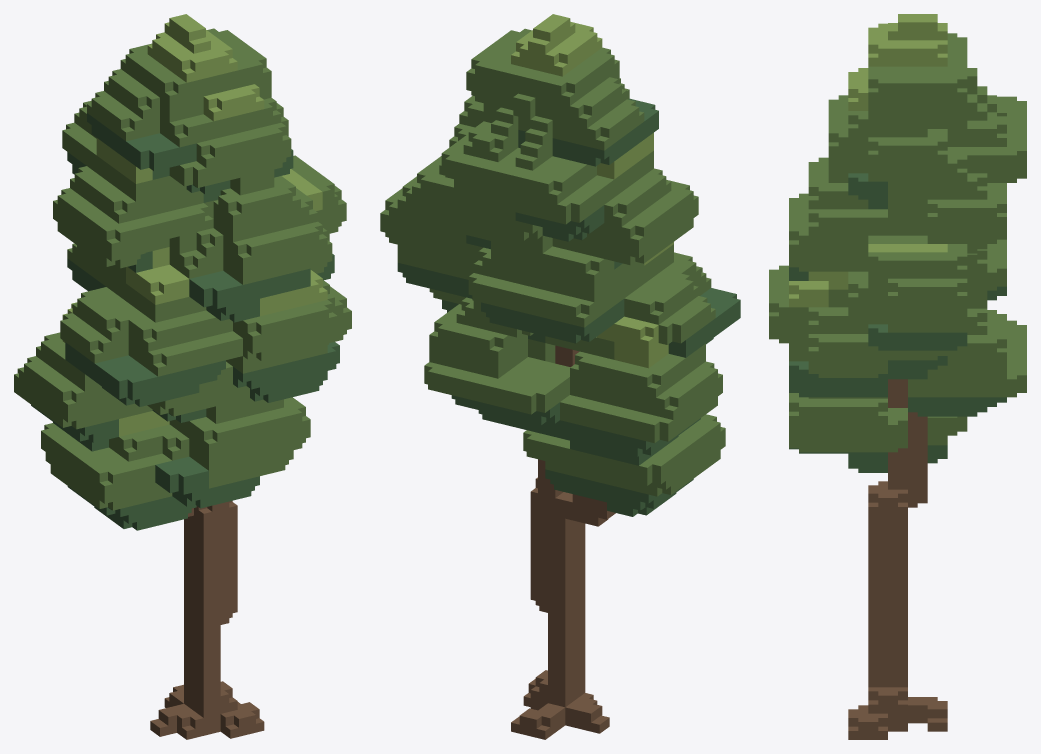
The model's file is hearthvale_tree_riverside_young.obj.
The picture shows the model from 3 angles, left to right: view 1: azimuth 30°, elevation 25°; view 2: azimuth 150°, elevation 25°; view 3: azimuth 270°, elevation 25°; orthographic projection.
Visible parts, largest first — view 1: palette_2, palette_3, palette_1, palette_4; view 2: palette_2, palette_3, palette_1, palette_4; view 3: palette_2, palette_1, palette_3, palette_4.
Part boxes in pixels (bbox=[...]): palette_2: bbox=[14, 28, 351, 510]; palette_3: bbox=[31, 113, 339, 530]; palette_1: bbox=[150, 500, 264, 739]; palette_4: bbox=[62, 14, 327, 436]; palette_2: bbox=[380, 28, 725, 496]; palette_3: bbox=[397, 98, 740, 516]; palette_1: bbox=[511, 345, 615, 739]; palette_4: bbox=[511, 14, 673, 368]; palette_2: bbox=[769, 33, 1026, 452]; palette_1: bbox=[848, 379, 947, 739]; palette_3: bbox=[789, 173, 1006, 472]; palette_4: bbox=[789, 14, 947, 307].
Bounding box in the file's own units: 2.12 × 4.88 × 1.62.
